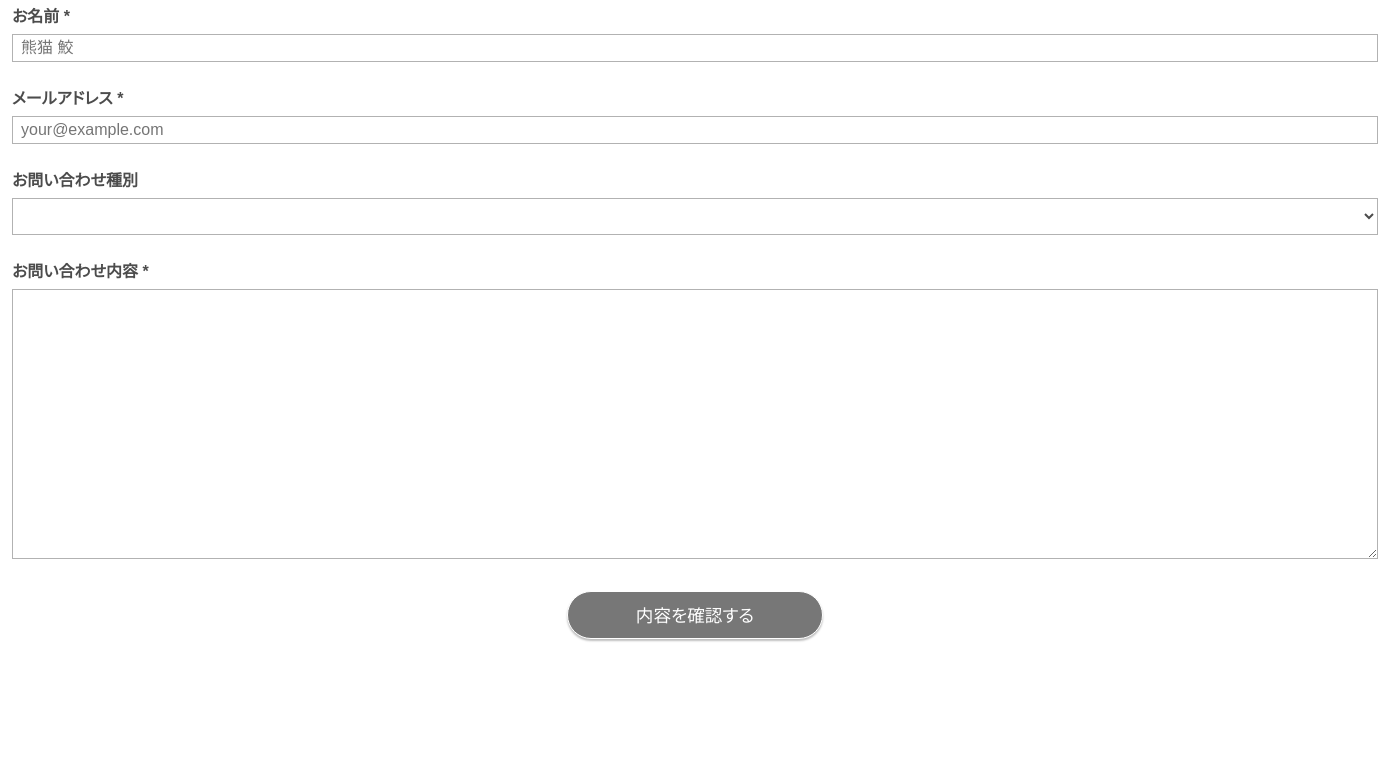
ContactFormContainer › user interaction › should display required error when value is invalid
The width and height of the screenshot is (1390, 768).
Click the field labelled "お名前 *".
click(695, 48)  # box [12,34,1378,62]
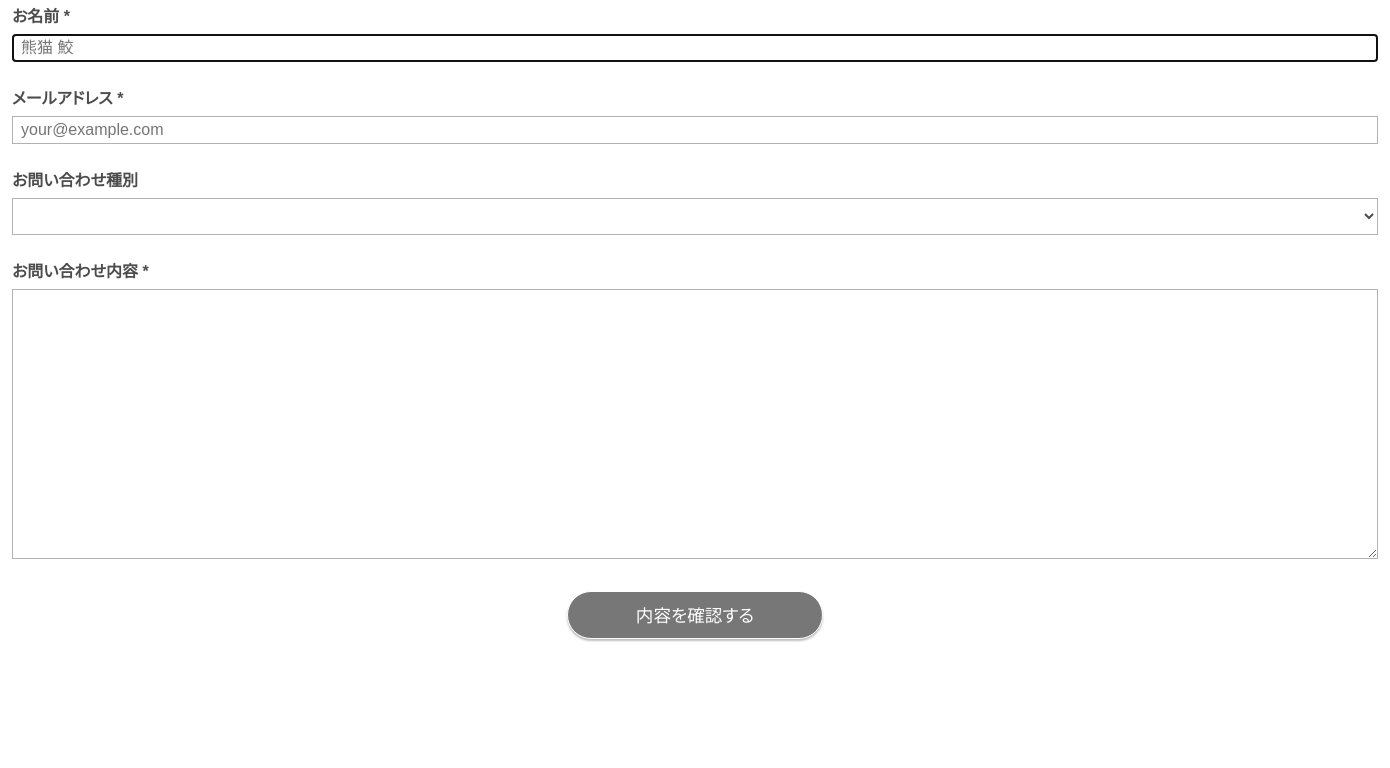
Click the field labelled "メールアドレス *".
click(695, 130)  # box [12,116,1378,144]
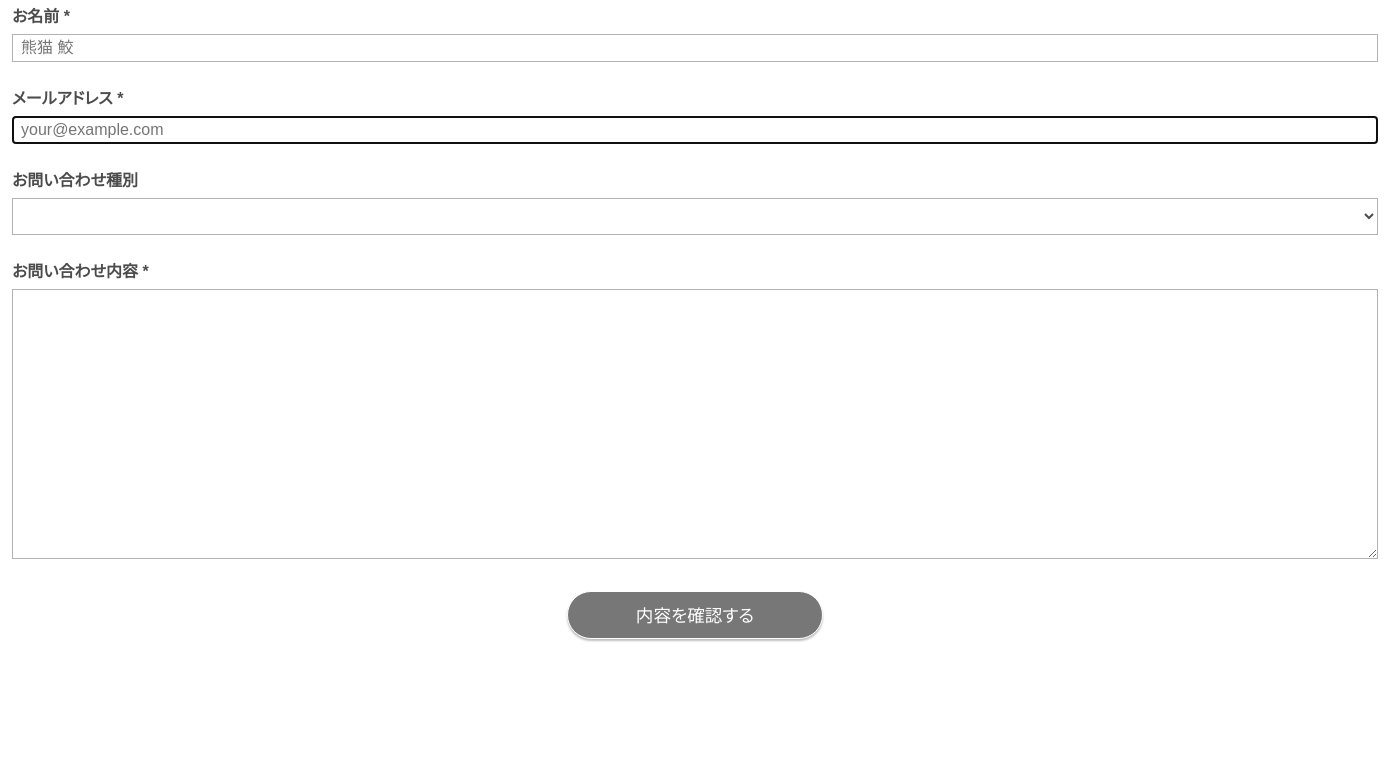
Click the text box labelled "お問い合わせ内容 *".
click(695, 424)  # box [12,289,1378,559]
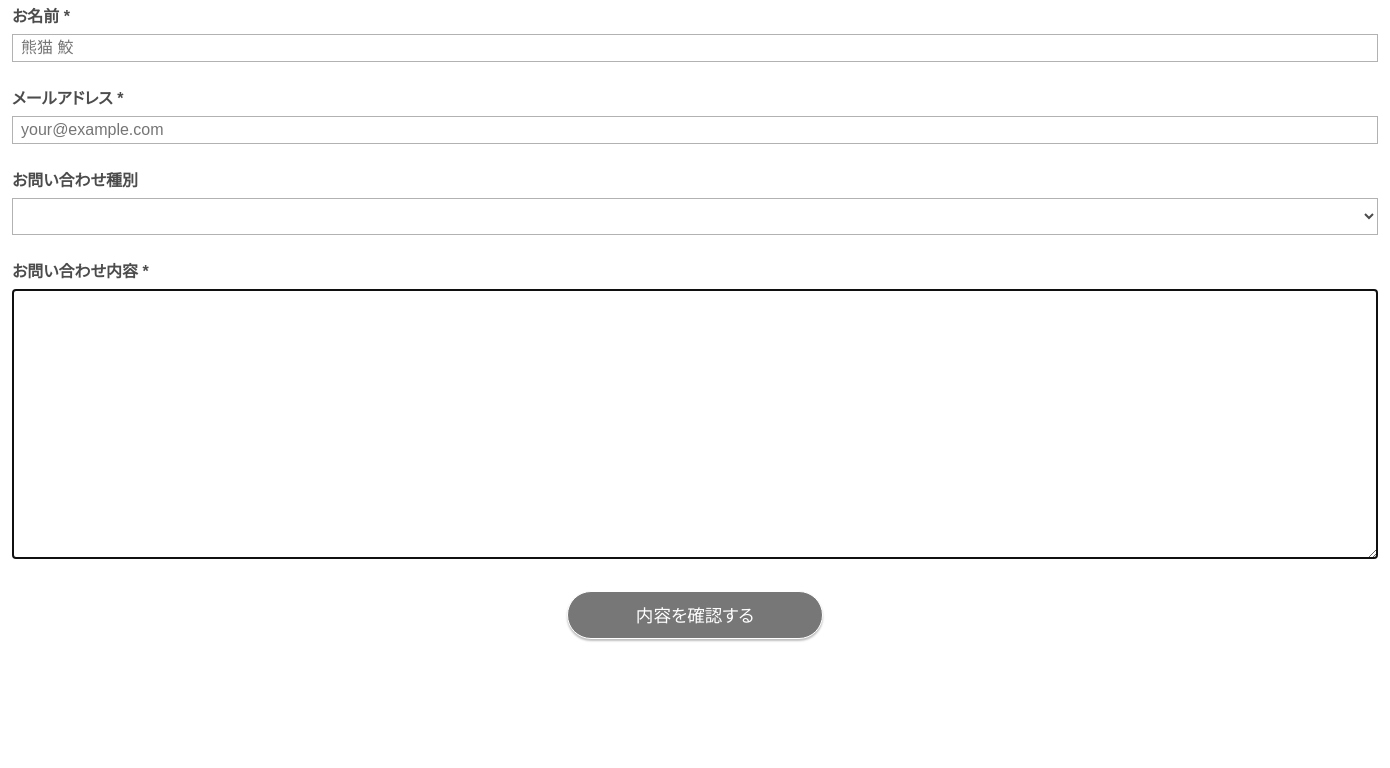
Leave the text box labelled "お問い合わせ内容 *", box [12,289,1378,559]
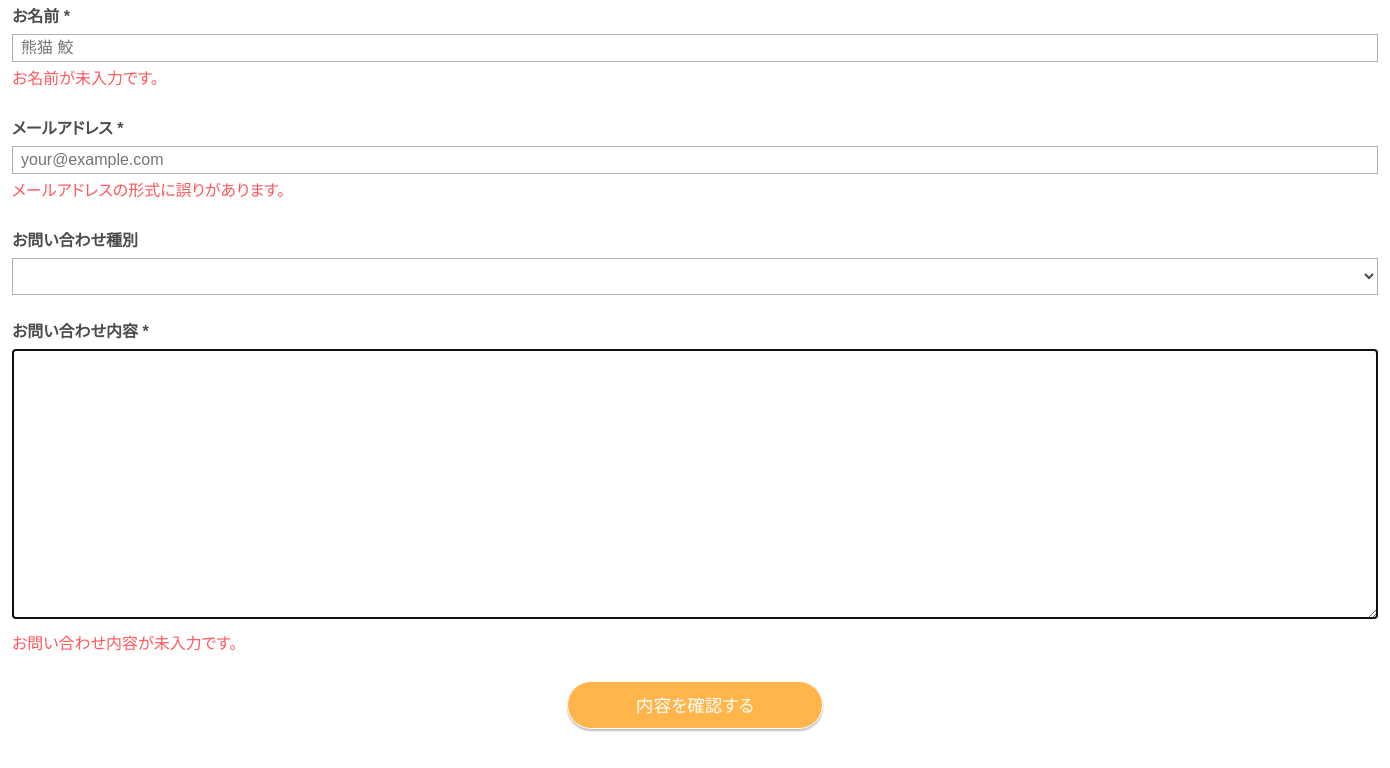
Expected: the text "お名前が未入力です。" is shown, [12,70,159,87]
Expected: the text "メールアドレスの形式に誤りがあります。" is shown, [12,182,285,199]
Expected: the text "お問い合わせ内容が未入力です。" is shown, [12,635,237,652]
